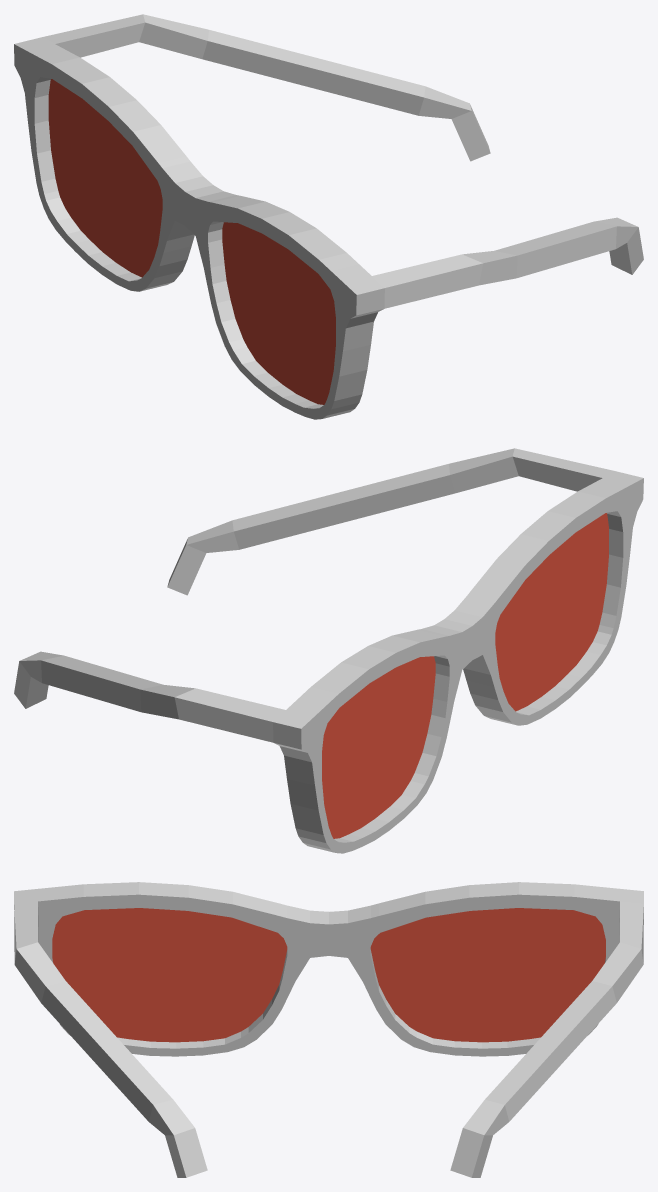
Rendered from okulary.fbx.
3 renders of one model, top to bottom at view 1: azimuth 30°, elevation 25°; view 2: azimuth 150°, elevation 25°; view 3: azimuth 270°, elevation 25°, orthographic. The views are drawn at different scales.
Parts seen in each view (by area): view 1: F_okulary; view 2: F_okulary; view 3: F_okulary.
Part boxes in pixels (<box>): F_okulary: <box>14,14,643,419</box>; F_okulary: <box>14,448,643,853</box>; F_okulary: <box>14,882,643,1177</box>.
Bounding box in the file's own units: 17.32 × 7.66 × 27.
